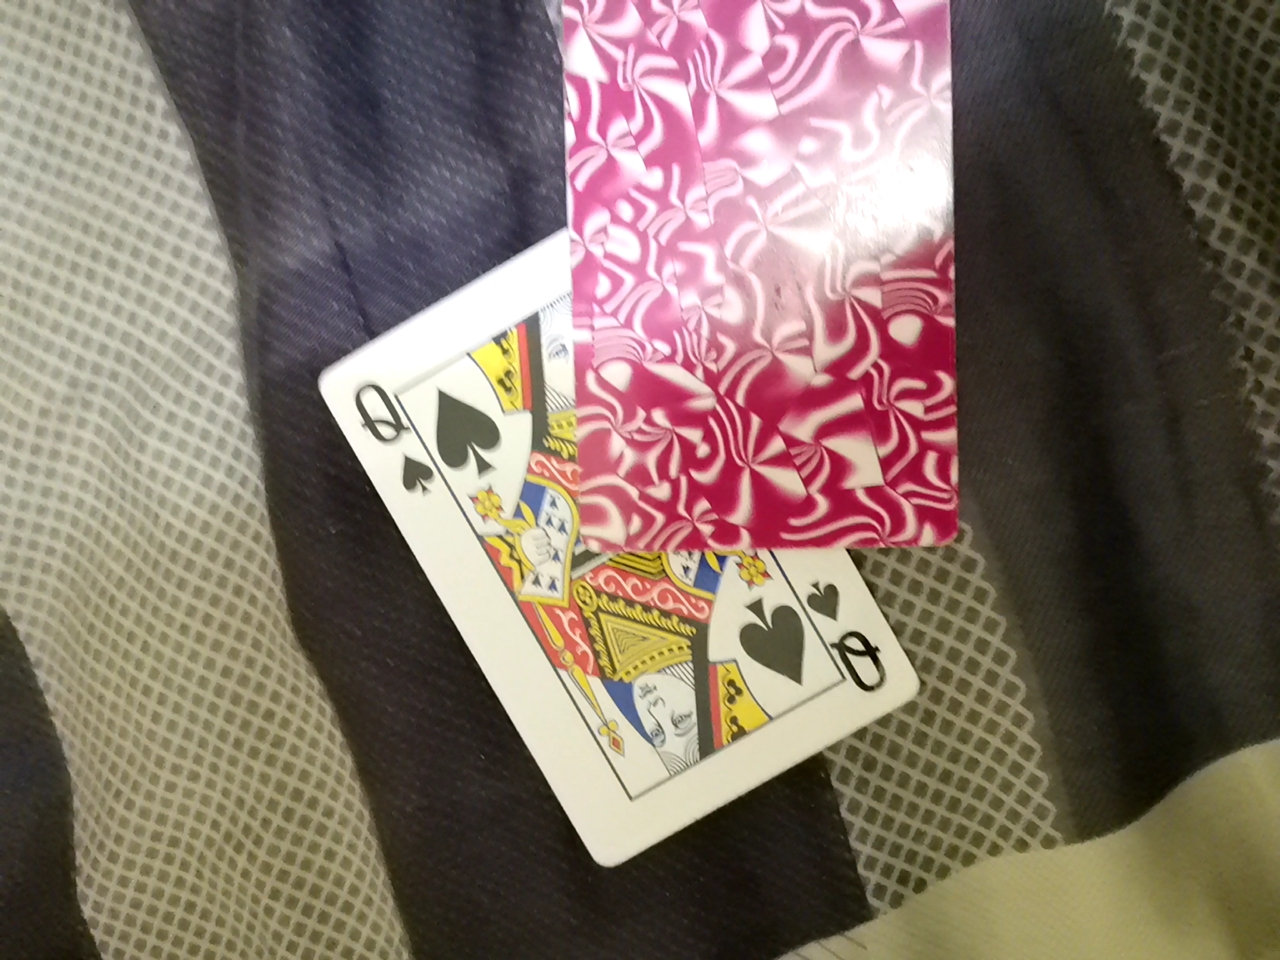ht q: (323, 131, 929, 920)
